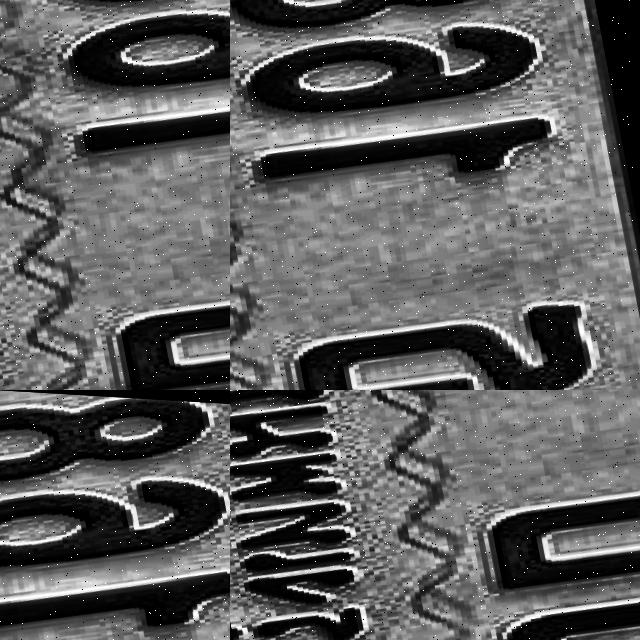license-plate: (230, 390, 640, 640), (0, 390, 230, 640)
